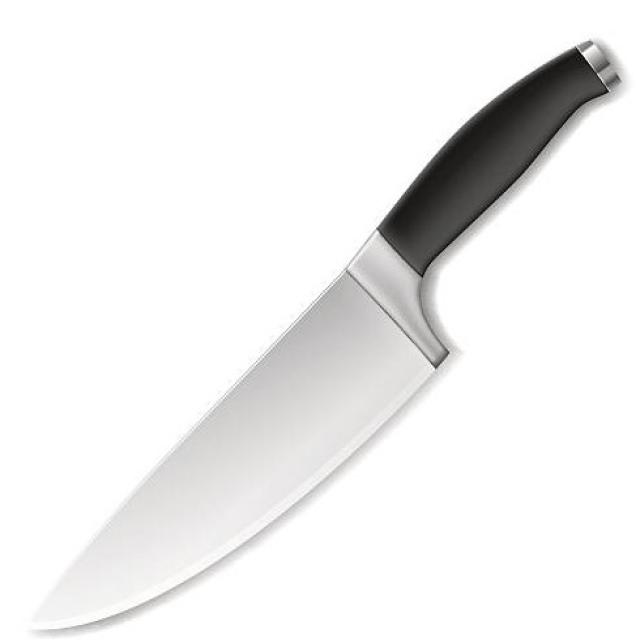knife: (9, 9, 626, 640)
